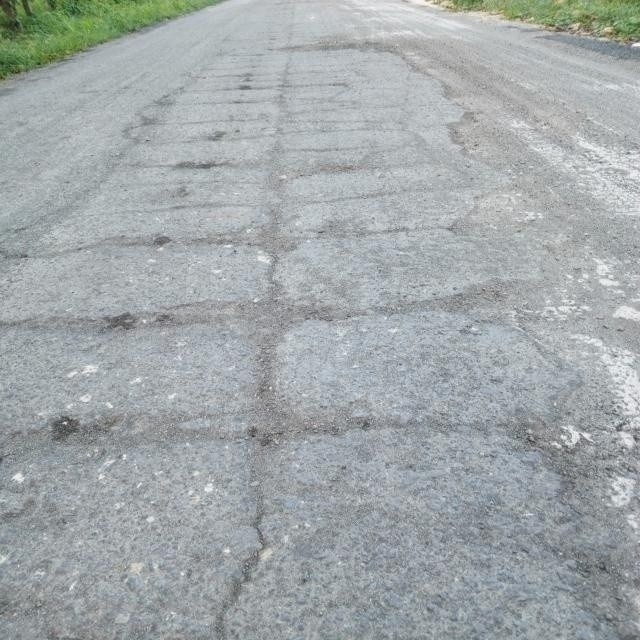pothole: (0, 10, 622, 640)
